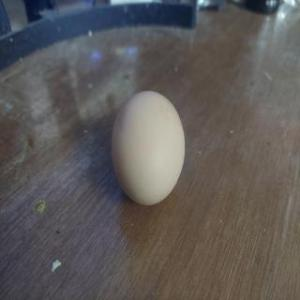egg: (106, 90, 190, 210)
